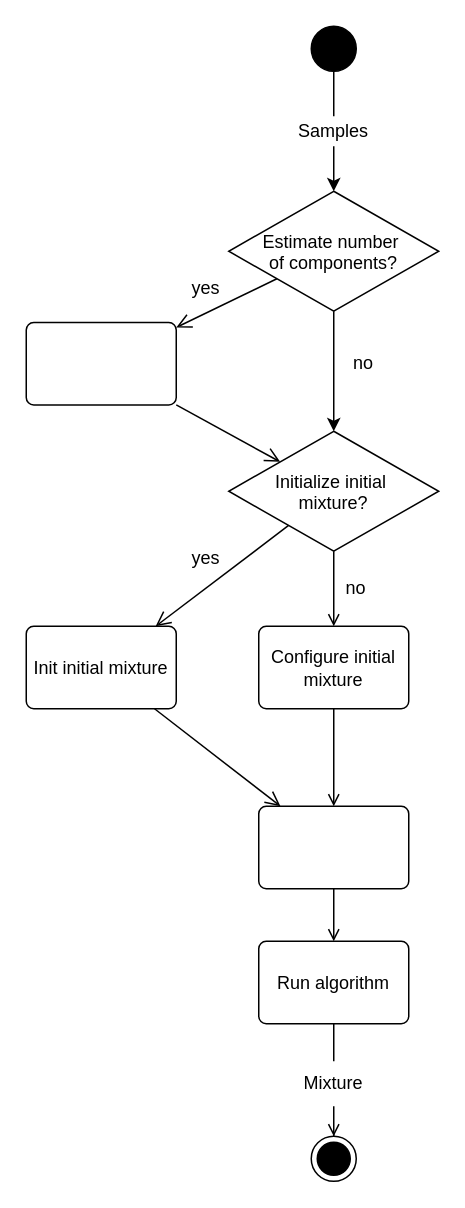
This 465x1208 diagram has some shape labels left out. Each missing label, with the box of its shape:
Configure algorithm: (257, 805, 409, 889)
Estimate number of components (AIC/BIC): (25, 321, 176, 405)
